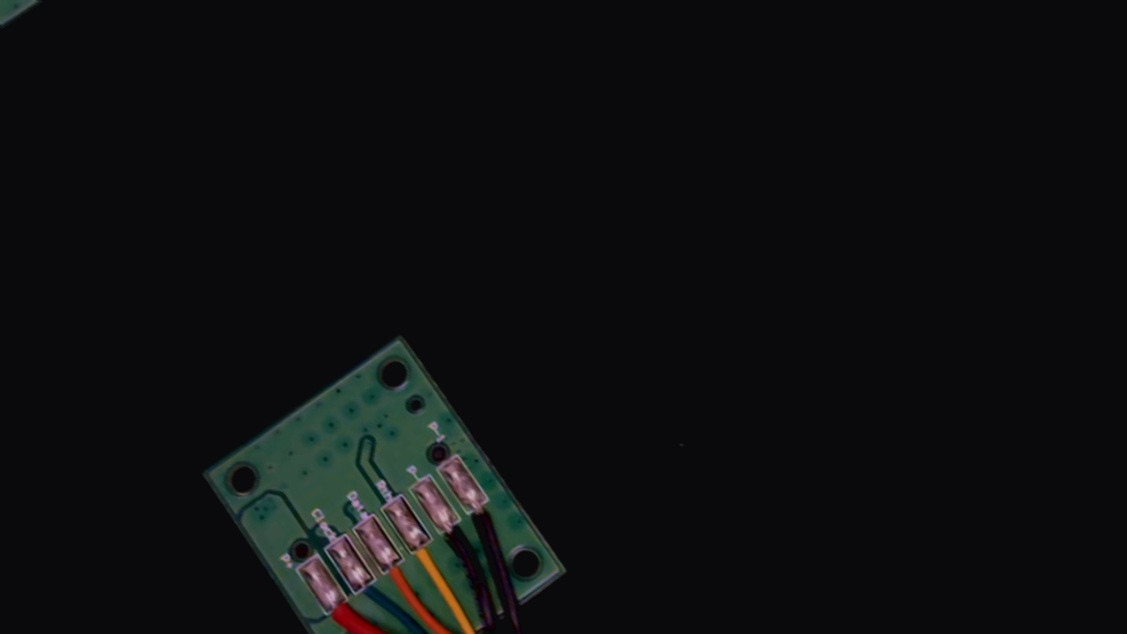Black: (428, 503, 486, 571)
Black1: (458, 486, 510, 546)
Green: (344, 565, 394, 622)
Orange: (371, 543, 425, 604)
Red: (315, 582, 371, 634)
Yellow: (401, 523, 458, 591)
